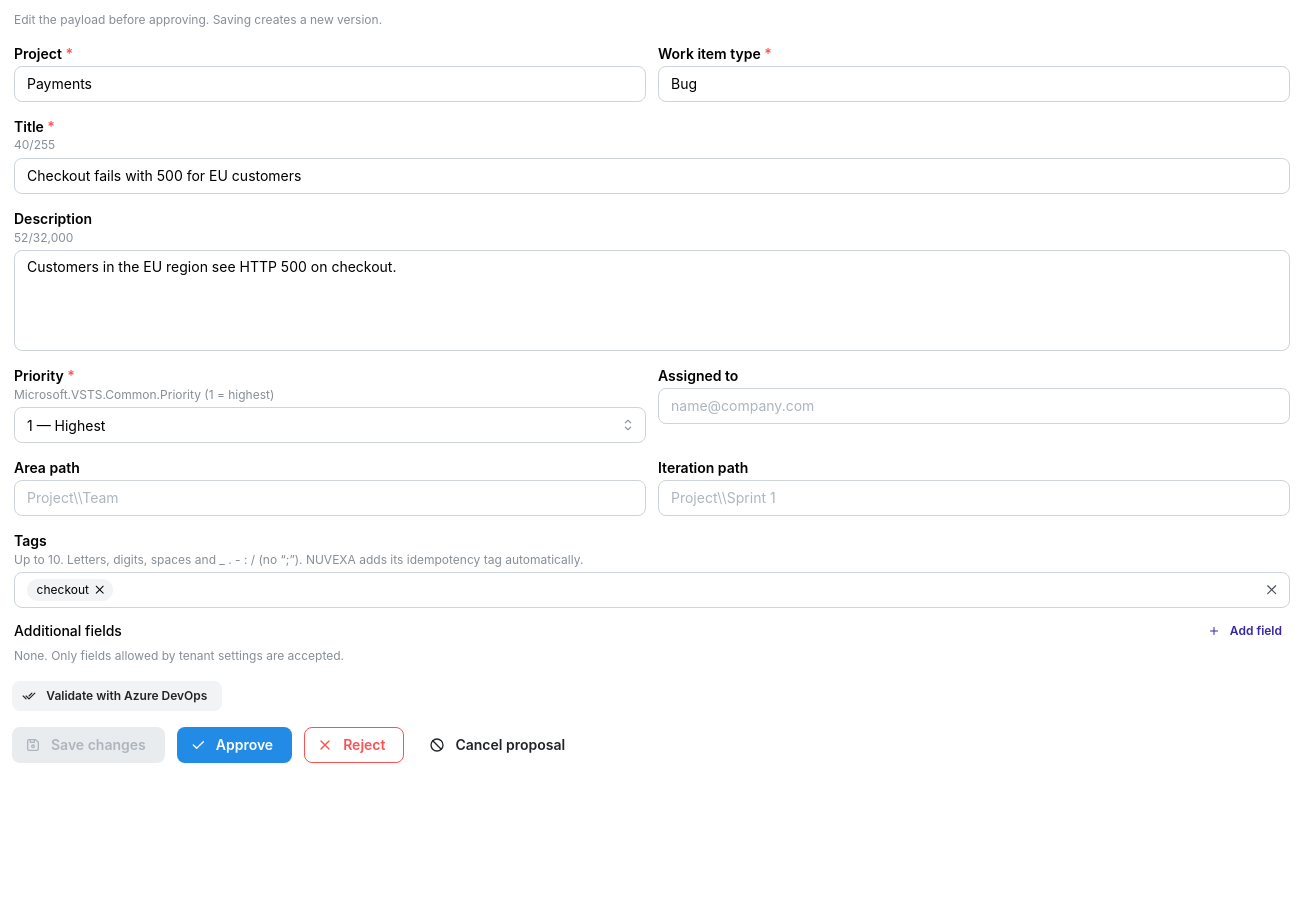
Test: <AdoEditor> › a failing validation request shows an error toast
This screenshot has width=1304, height=912.
Click the button "Validate with Azure DevOps" at [117, 696], box [12, 681, 222, 711]
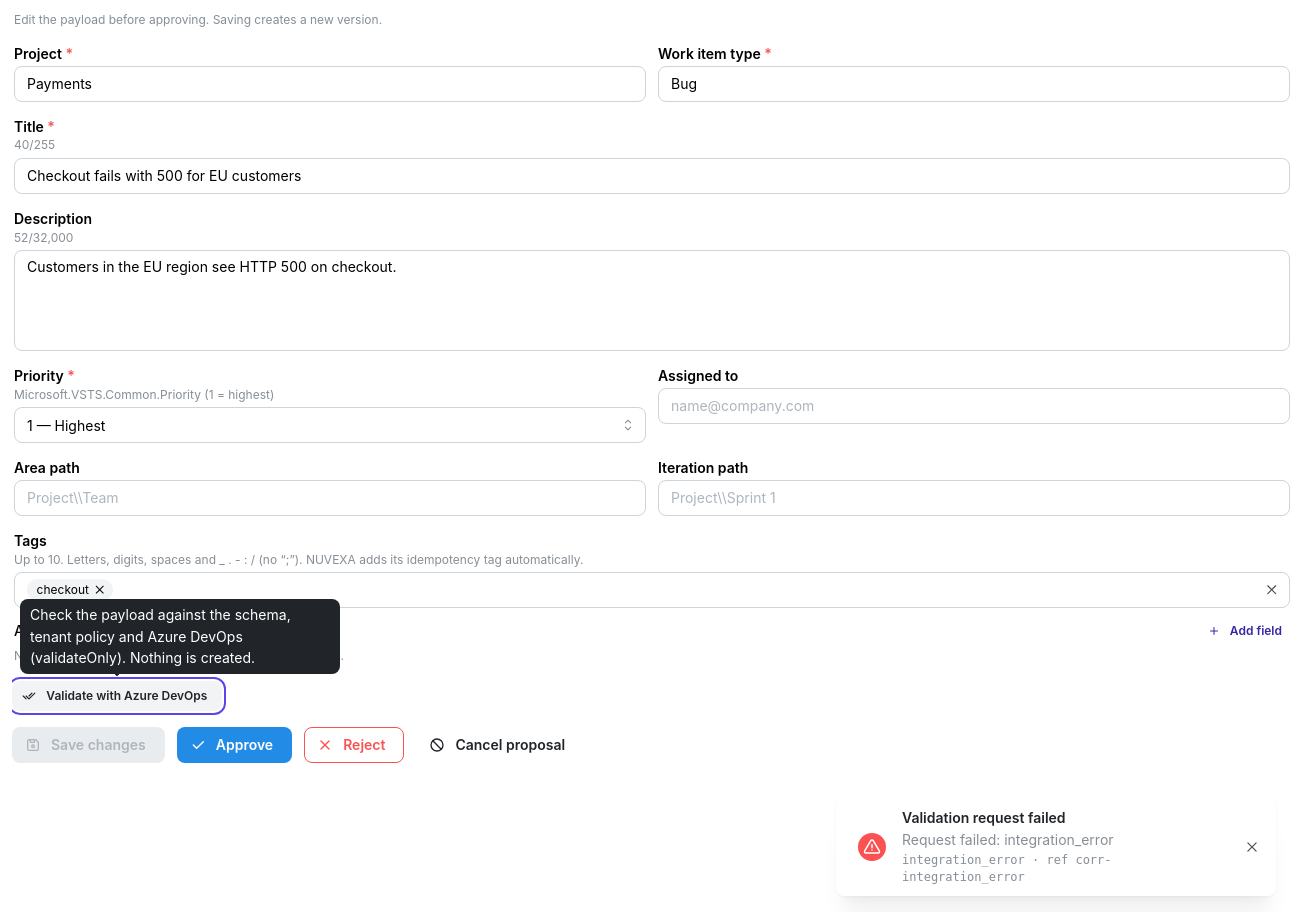
Now the text "Validation request failed" is shown, box [902, 809, 1066, 826]
Now the text "integration_error · ref corr-integration_error" is shown, box [902, 853, 1112, 884]
